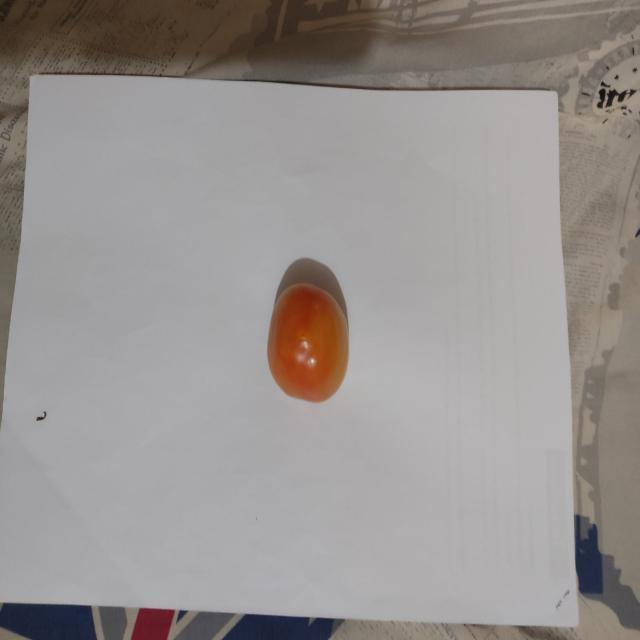sari: (250, 278, 380, 398)
